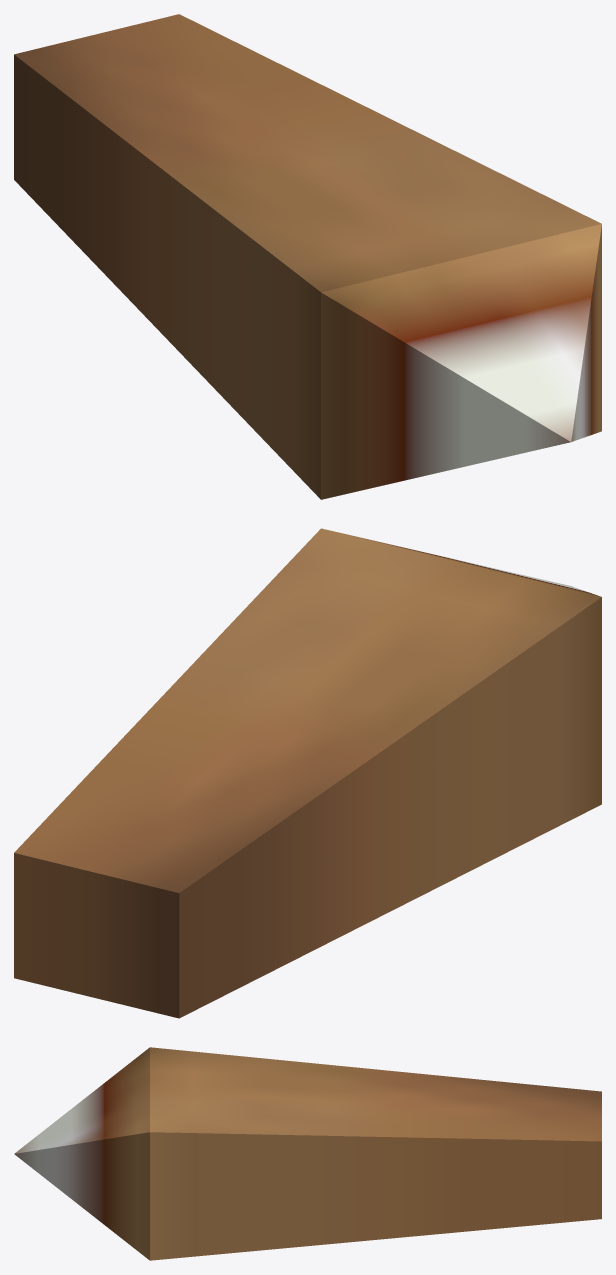
Rendered from T_BOXLOD.obj.
The picture shows the model from 3 angles, top to bottom: view 1: azimuth 30°, elevation 25°; view 2: azimuth 150°, elevation 25°; view 3: azimuth 270°, elevation 25°; orthographic projection. The views are drawn at different scales.
Parts seen in each view (by area): view 1: Node 0; view 2: Node 0; view 3: Node 0.
Part boxes in pixels (x1=…): Node 0: x1=14, y1=14, x2=601, y2=499; Node 0: x1=14, y1=528, x2=601, y2=1018; Node 0: x1=14, y1=1047, x2=601, y2=1260.
Bounding box in the file's own units: 0.68 × 0.48 × 1.99.
Materials: 1 (1 with a texture image).
